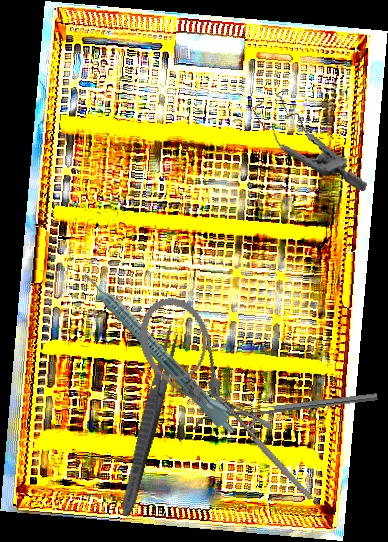Cannula: (129, 290, 234, 432)
Dressing Forceps: (116, 323, 183, 519)
Handpiece: (79, 262, 245, 439)
Needle Holder: (205, 369, 314, 521)
Spatula Surgical: (191, 393, 379, 430)
Speculum: (241, 84, 381, 192)
